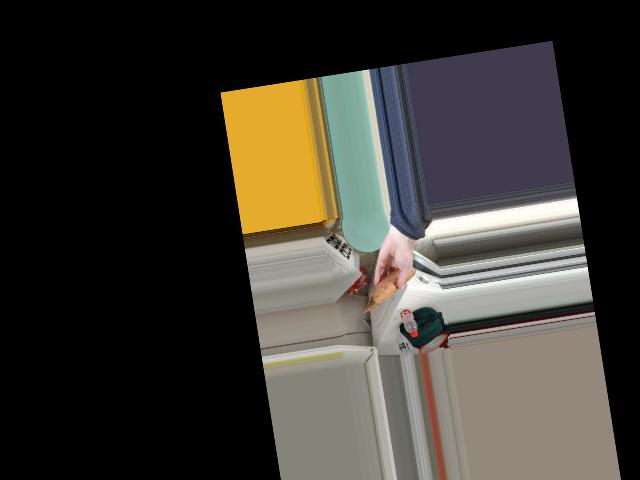sweet_potato: (373, 268, 410, 303)
